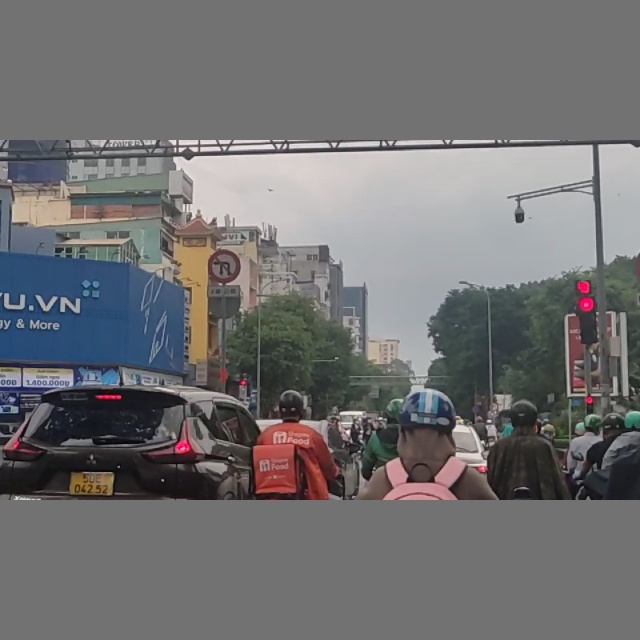P.124c: (206, 251, 241, 285)
